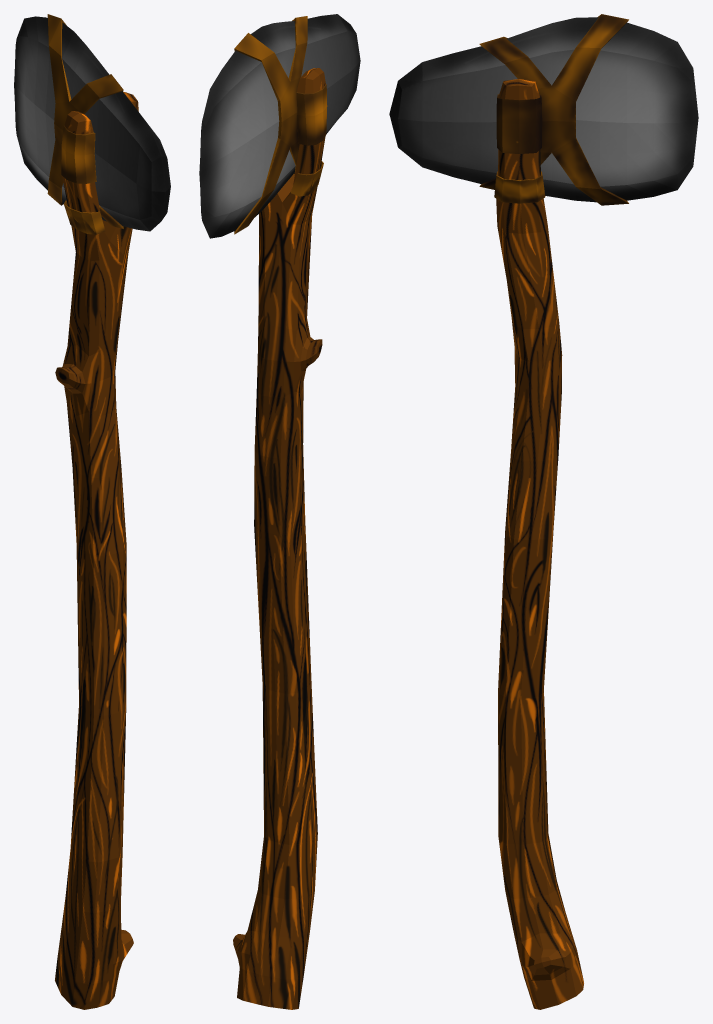
Rendered from UnityAxt.fbx.
3 renders of one model, left to right at view 1: azimuth 30°, elevation 25°; view 2: azimuth 150°, elevation 25°; view 3: azimuth 270°, elevation 25°, orthographic. The views are drawn at different scales.
Visible parts, largest first — view 1: Leder; view 2: Leder; view 3: Leder.
Boxes of the visible parts, box(x1,y1,x2,y2) form: Leder: box(14, 14, 170, 1009); Leder: box(199, 14, 360, 1009); Leder: box(389, 14, 698, 1009).
Bounding box in the file's own units: 421 × 5054 × 1434.
Materials: 1 (1 with a texture image).
